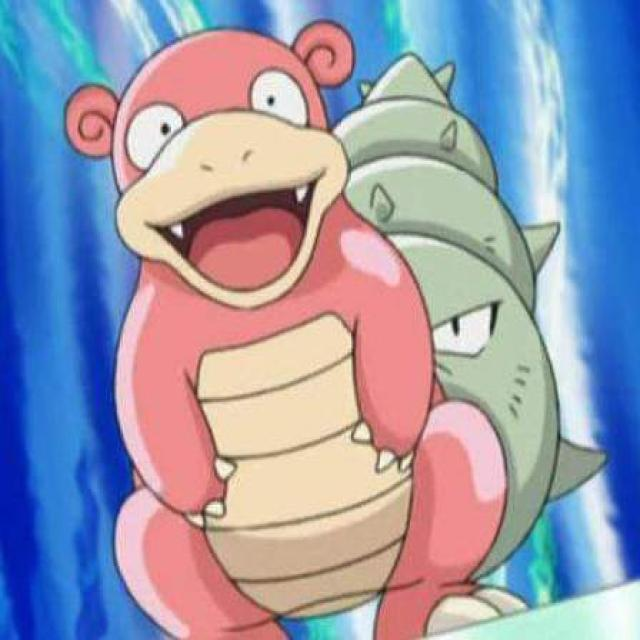Slowbro: (88, 6, 562, 640)
